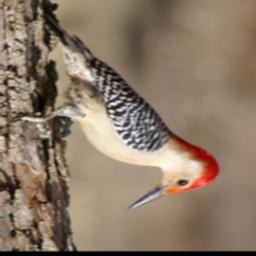Woodpecker: (8, 11, 225, 210)
